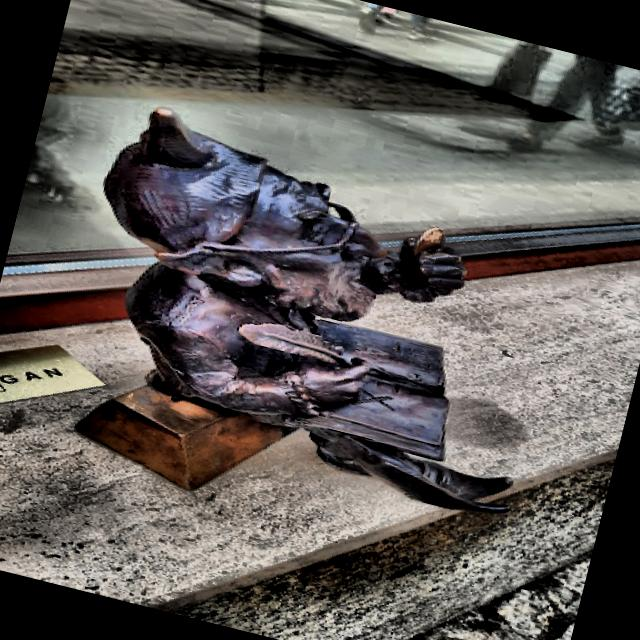Gaugan: (75, 108, 511, 514)
